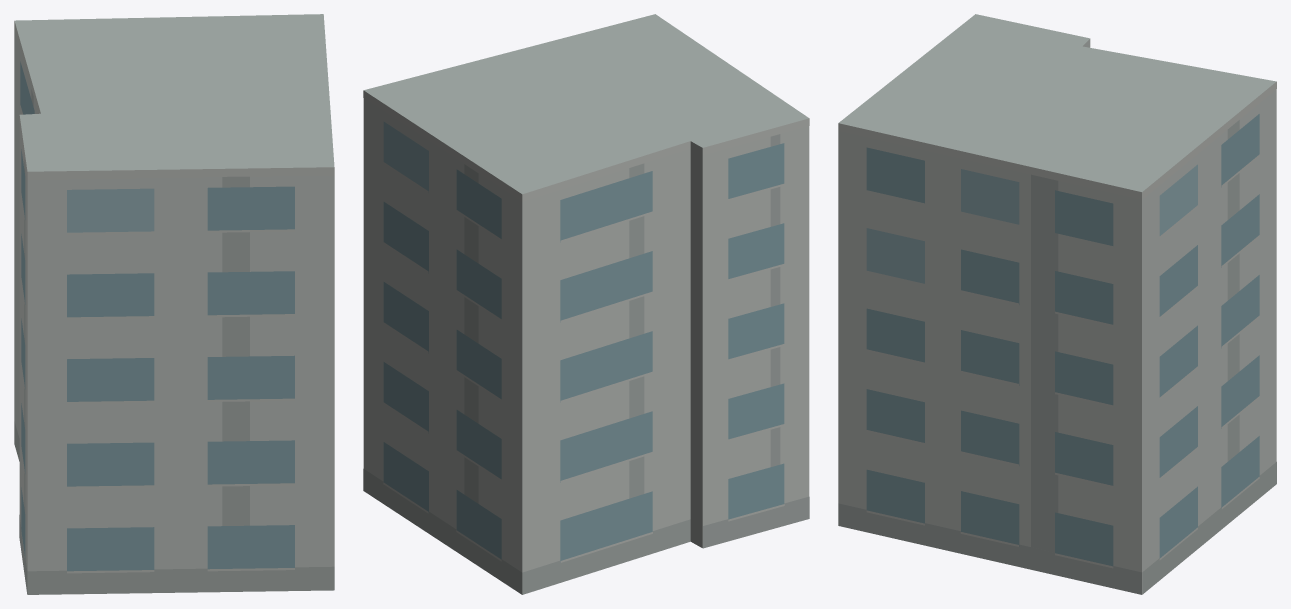
Rendered from survey-upis-32729583.glb.
3 renders of one model, left to right at view 1: azimuth 30°, elevation 25°; view 2: azimuth 150°, elevation 25°; view 3: azimuth 270°, elevation 25°, orthographic. The views are drawn at different scales.
Parts seen in each view (by area): view 1: survey-upis-32729583.tmp; view 2: survey-upis-32729583.tmp; view 3: survey-upis-32729583.tmp.
Part boxes in pixels (bbox=[...]): survey-upis-32729583.tmp: bbox=[14, 14, 334, 594]; survey-upis-32729583.tmp: bbox=[363, 14, 809, 594]; survey-upis-32729583.tmp: bbox=[838, 14, 1276, 594].
Bounding box in the file's own units: 12.16 × 12.8 × 12.64.
